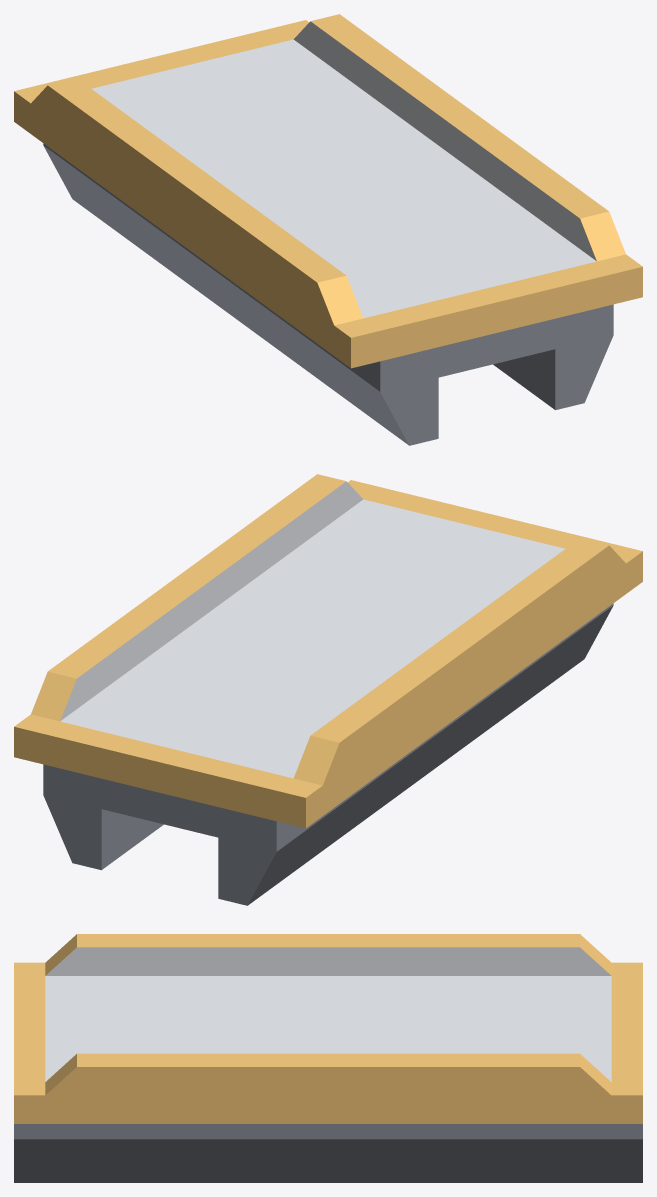
Rendered from monorail_trainFlat.glb.
3 views of the same model, one above another, from view 1: azimuth 30°, elevation 25°; view 2: azimuth 150°, elevation 25°; view 3: azimuth 270°, elevation 25° (orthographic). The views are drawn at different scales.
Parts seen in each view (by area): view 1: monorail_trainFlat; view 2: monorail_trainFlat; view 3: monorail_trainFlat.
Boxes of the visible parts, x1=… form: monorail_trainFlat: x1=14, y1=14, x2=642, y2=445; monorail_trainFlat: x1=14, y1=474, x2=642, y2=905; monorail_trainFlat: x1=14, y1=934, x2=642, y2=1182.
Size of the model in its own units: 0.5 by 0.25 by 1.
